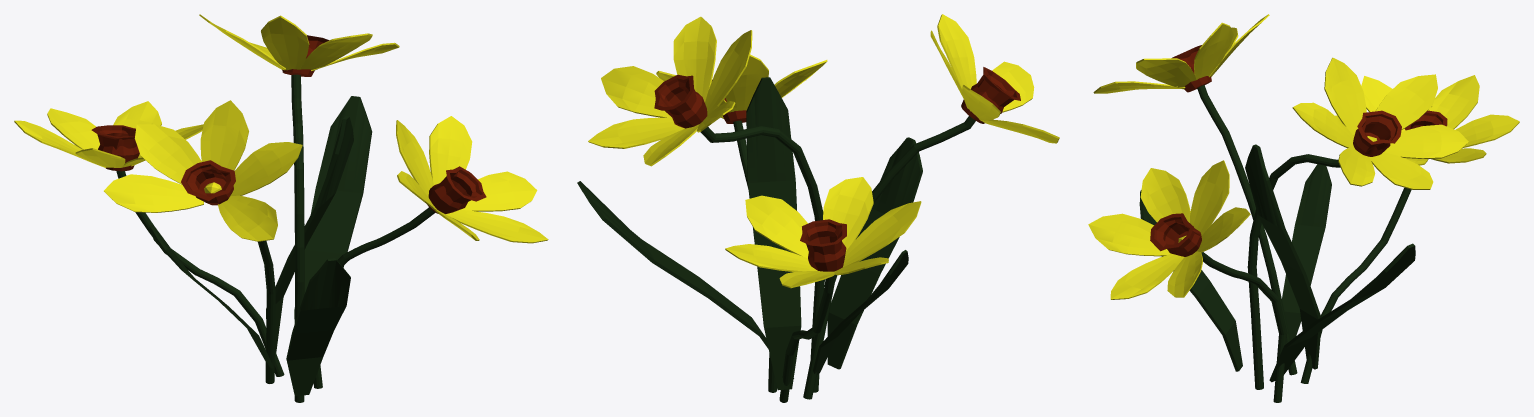
Rendered from flower L.fbx.
3 views of the same model, side by side, from view 1: azimuth 30°, elevation 25°; view 2: azimuth 150°, elevation 25°; view 3: azimuth 270°, elevation 25° (orthographic). The views are drawn at different scales.
Visible parts, largest first — view 1: flower_L; view 2: flower_L; view 3: flower_L.
Boxes of the visible parts, x1,y1,x2,y2 form: flower_L: (14,14,548,402); flower_L: (577,14,1059,402); flower_L: (1088,14,1519,402).
Bounding box in the file's own units: 985 × 814 × 936.
